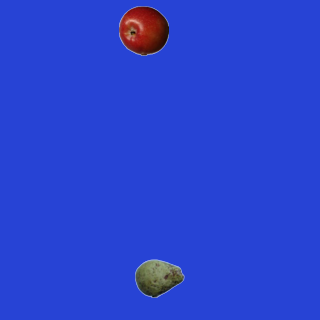Apple Braeburn: (118, 5, 168, 55)
Pear Stone: (134, 253, 184, 303)
